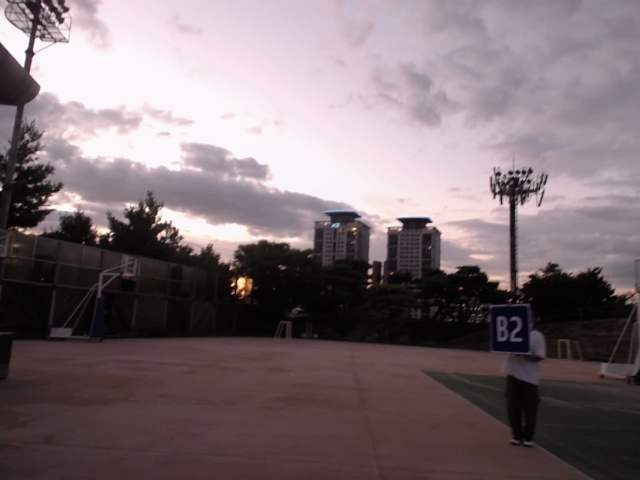delivery_b2: (487, 302, 532, 356)
